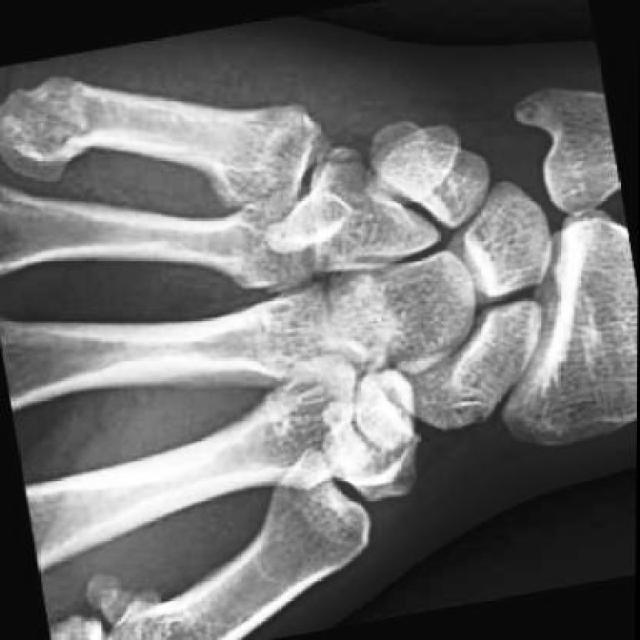Fracture: (296, 116, 381, 202)
